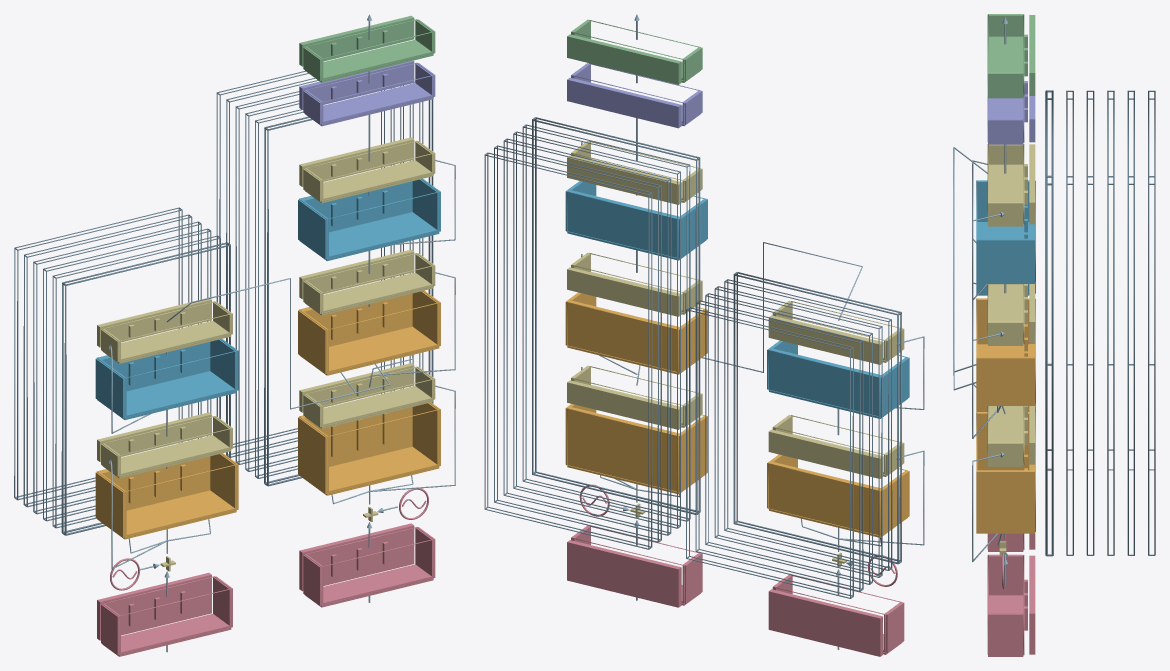
File: spatial-original.glb
3 renders of one model, left to right at view 1: azimuth 30°, elevation 25°; view 2: azimuth 150°, elevation 25°; view 3: azimuth 270°, elevation 25°, orthographic. The views are drawn at different scales.
Visible parts, largest first — view 1: body_decoder_embed, body_encoder_embed, body_decoder_attention, rim_bottom_encoder_ffn, rim_bottom_encoder_attention, rim_bottom_decoder_attention, rim_bottom_decoder_ffn, rim_bottom_decoder_cross, body_encoder_attention, body_decoder_cross, body_decoder_ffn, body_encoder_ffn (+53 smaller); view 2: body_decoder_attention, body_encoder_attention, body_decoder_cross, body_decoder_embed, body_encoder_embed, body_decoder_ffn, body_encoder_ffn, body_linear, body_softmax, body_decoder_norm2, body_decoder_norm1, body_encoder_norm1 (+33 smaller); view 3: rim_right_decoder_attention, rim_right_decoder_cross, rim_right_decoder_ffn, rim_right_decoder_embed, repeat_decoder_repeat-0.38, repeat_decoder_repeat-0.52, rim_bottom_decoder_norm2, rim_bottom_decoder_norm3, rim_bottom_softmax, rim_left_decoder_embed, rim_bottom_decoder_norm1, rim_right_linear (+33 smaller).
Part boxes in pixels (bbox=[...]): body_decoder_embed: bbox=[299, 523, 414, 591]; body_encoder_embed: bbox=[97, 572, 211, 640]; body_decoder_attention: bbox=[301, 407, 412, 466]; rim_bottom_encoder_ffn: bbox=[97, 371, 236, 419]; rim_bottom_encoder_attention: bbox=[97, 490, 236, 539]; rim_bottom_decoder_attention: bbox=[299, 446, 439, 495]; rim_bottom_decoder_ffn: bbox=[300, 212, 439, 261]; rim_bottom_decoder_cross: bbox=[300, 326, 439, 375]; body_encoder_attention: bbox=[98, 456, 210, 510]; body_decoder_cross: bbox=[302, 293, 412, 346]; body_decoder_ffn: bbox=[302, 181, 412, 232]; body_encoder_ffn: bbox=[99, 342, 210, 391]; body_decoder_attention: bbox=[567, 407, 679, 491]; body_encoder_attention: bbox=[769, 461, 881, 534]; body_decoder_cross: bbox=[567, 300, 679, 371]; body_decoder_embed: bbox=[567, 540, 681, 607]; body_encoder_embed: bbox=[768, 589, 882, 656]; body_decoder_ffn: bbox=[567, 190, 679, 257]; body_encoder_ffn: bbox=[769, 348, 881, 416]; body_linear: bbox=[567, 77, 681, 128]; body_softmax: bbox=[567, 34, 681, 84]; body_decoder_norm2: bbox=[567, 267, 681, 316]; body_decoder_norm1: bbox=[567, 380, 681, 429]; body_encoder_norm1: bbox=[768, 429, 882, 478]; rim_right_decoder_attention: bbox=[976, 470, 1034, 532]; rim_right_decoder_cross: bbox=[976, 356, 1034, 404]; rim_right_decoder_ffn: bbox=[976, 238, 1034, 282]; rim_right_decoder_embed: bbox=[988, 612, 1023, 655]; repeat_decoder_repeat-0.38: bbox=[1045, 90, 1047, 555]; repeat_decoder_repeat-0.52: bbox=[1051, 90, 1053, 555]; rim_bottom_decoder_norm2: bbox=[988, 284, 1023, 345]; rim_bottom_decoder_norm3: bbox=[988, 164, 1023, 226]; rim_bottom_softmax: bbox=[988, 36, 1023, 98]; rim_left_decoder_embed: bbox=[988, 554, 1023, 595]; rim_bottom_decoder_norm1: bbox=[988, 406, 1023, 466]; rim_right_linear: bbox=[988, 118, 1023, 143].
Bounding box in the file's own units: 10.2 × 15.56 × 4.55.
